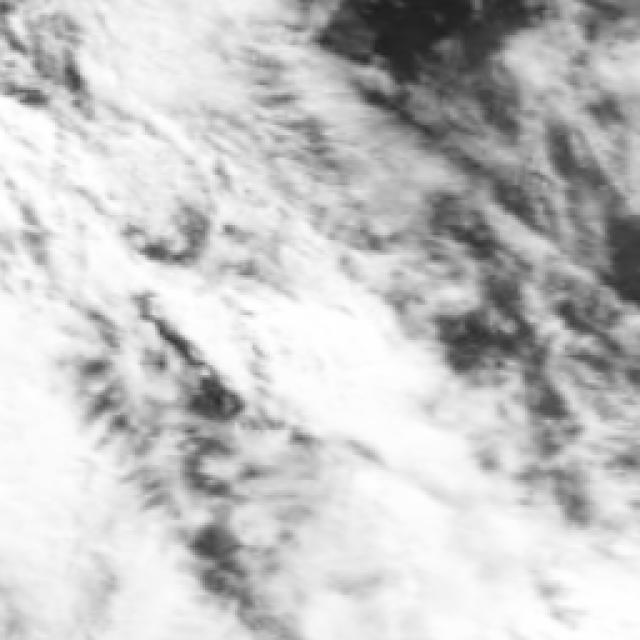CB: (346, 487, 562, 640), (0, 437, 137, 640), (109, 0, 304, 129), (265, 262, 399, 413)
